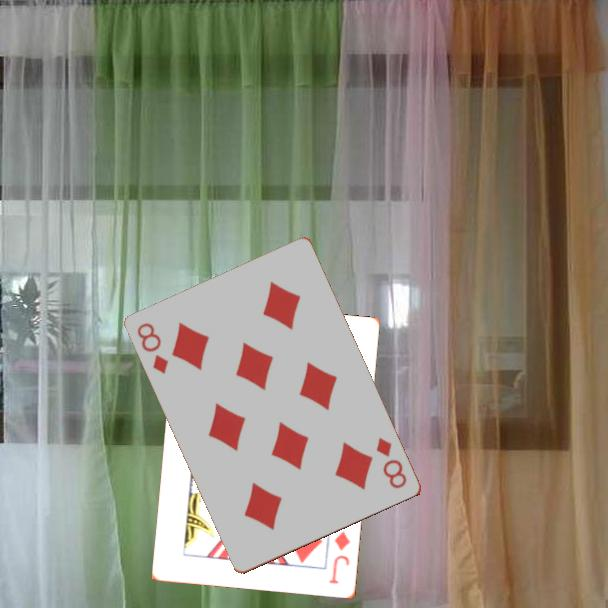d08: (373, 434, 410, 492), (134, 319, 171, 377)
d11: (326, 528, 353, 587)
